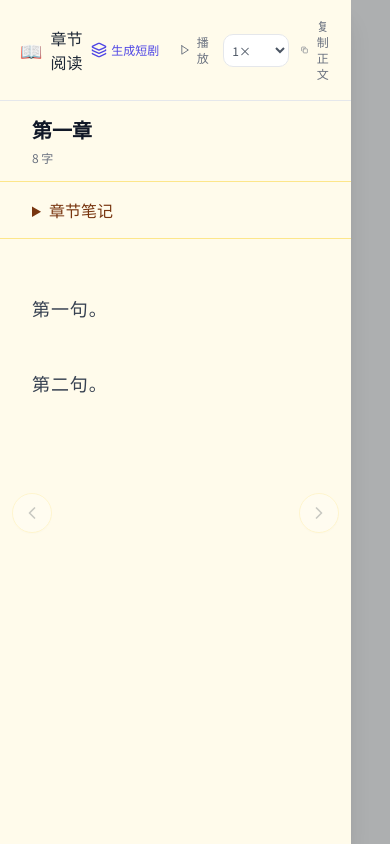
Test: chapter audiobook › highlights the spoken line and requests only speakable lines
Click the button "播放": {"x": 195, "y": 50} [171,28,219,72]
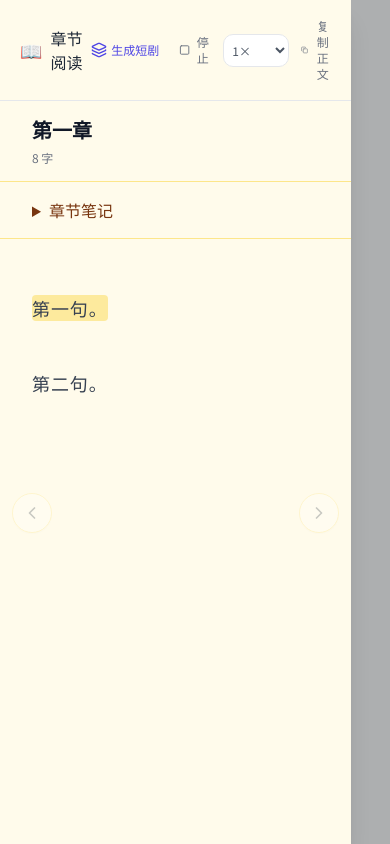
Now the button "停止" is shown, box [171,28,219,72]
